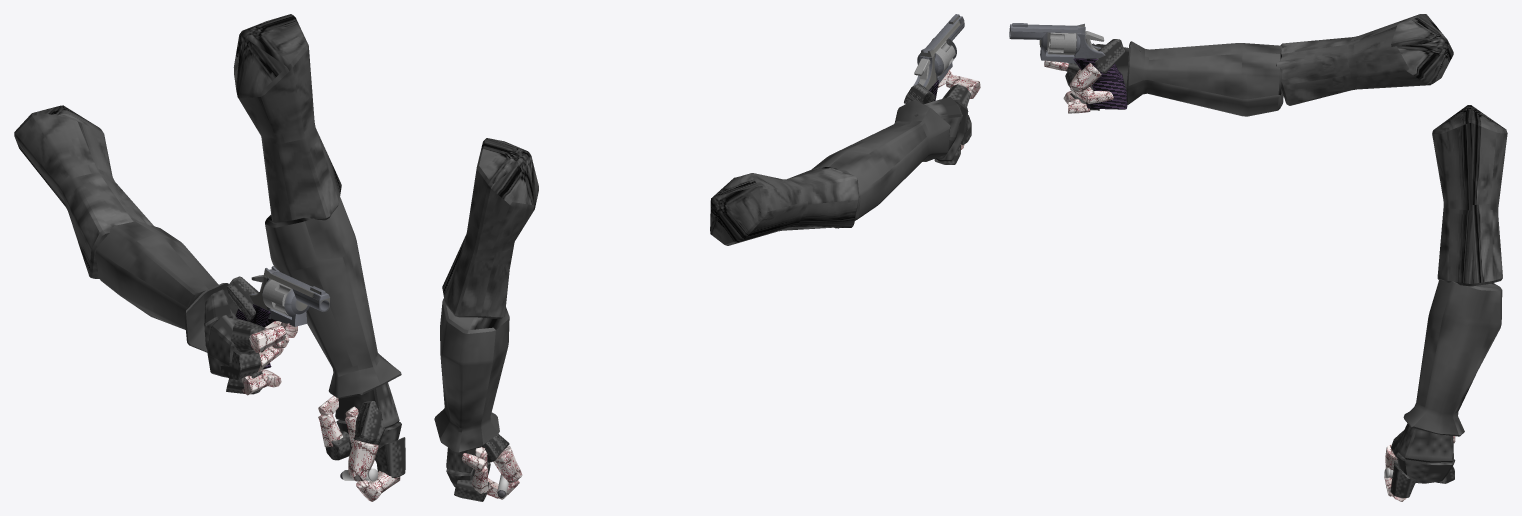
Rendered from Revolver4realz.fbx.
The picture shows the model from 3 angles, left to right: view 1: azimuth 30°, elevation 25°; view 2: azimuth 150°, elevation 25°; view 3: azimuth 270°, elevation 25°; orthographic projection. The views are drawn at different scales.
Visible parts, largest first — view 1: Cube.012, Cube.013, Cube.011, Cube.010, Cylinder, Cube.049, Cube.025, Cube.028, Cube.036, Cube.027, Cube.050, Cube.047 (+7 smaller); view 2: Cube.012, Cube.011, Cube.013, Cube.010, Cylinder, Cube.050, Cube.027; view 3: Cube.012, Cube.011, Cube.010, Cube.013, Cylinder, Cube.025, Cube.026, Cylinder.001, Cube.047, Cube.036, Cube.048.
Boxes of the visible parts, x1,y1,x2,y2 form: Cube.012: (233, 14, 341, 222); Cube.013: (265, 197, 401, 398); Cube.011: (14, 105, 154, 278); Cube.010: (95, 221, 237, 352); Cylinder: (235, 266, 330, 369); Cube.049: (207, 313, 237, 377); Cube.025: (335, 382, 399, 428); Cube.028: (355, 401, 385, 444); Cube.036: (374, 437, 405, 477); Cube.027: (348, 440, 378, 481); Cube.050: (204, 289, 233, 349); Cube.047: (227, 276, 258, 321); Cube.012: (442, 138, 538, 318); Cube.011: (710, 167, 859, 245); Cube.013: (434, 298, 509, 452); Cube.010: (812, 100, 950, 228); Cylinder: (913, 14, 964, 100); Cube.050: (914, 97, 962, 159); Cube.027: (493, 445, 522, 483); Cube.012: (1432, 105, 1507, 286); Cube.011: (1276, 14, 1453, 105); Cube.010: (1126, 41, 1283, 116); Cube.013: (1403, 279, 1502, 436); Cylinder: (1009, 23, 1127, 109); Cube.025: (1397, 423, 1453, 462); Cube.026: (1397, 452, 1455, 483); Cylinder.001: (1047, 32, 1076, 54); Cube.047: (1094, 39, 1124, 73); Cube.036: (1390, 461, 1416, 498); Cube.048: (1069, 63, 1101, 92).
Bounding box in the file's own units: 1734 × 1897 × 2345.
